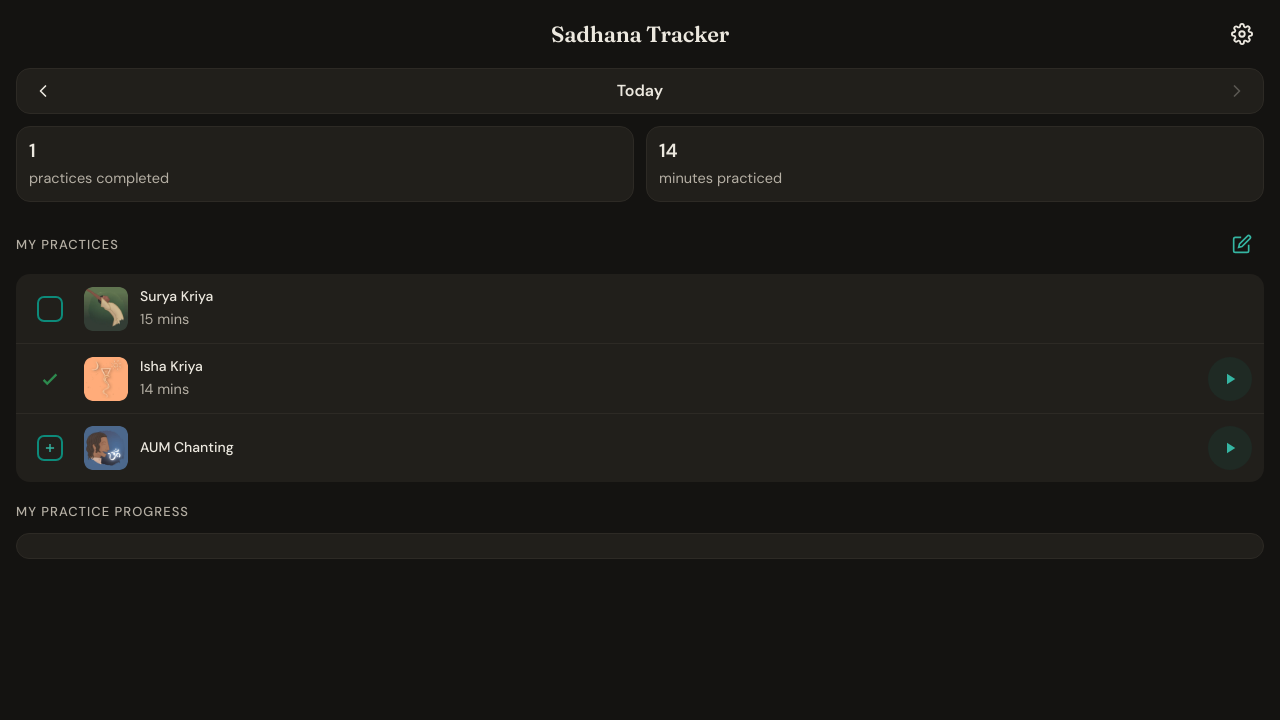
Test: Practice home day switcher › hides play buttons on Yesterday only
The image size is (1280, 720).
Expected: the button named "Play" in the row of "Isha Kriya" is shown, [1208,357,1252,401]
Click the button named "Show yesterday": [43, 91] box [21,69,65,113]
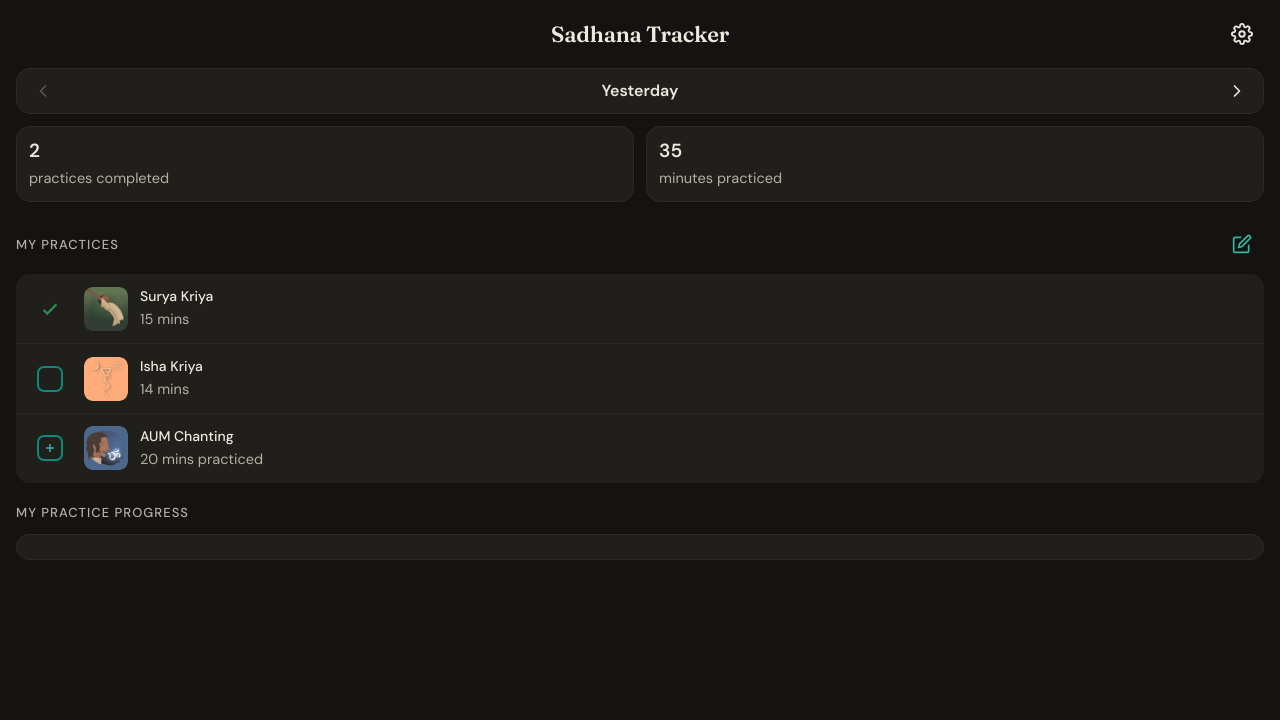
Now no buttons labelled "Play" are shown
